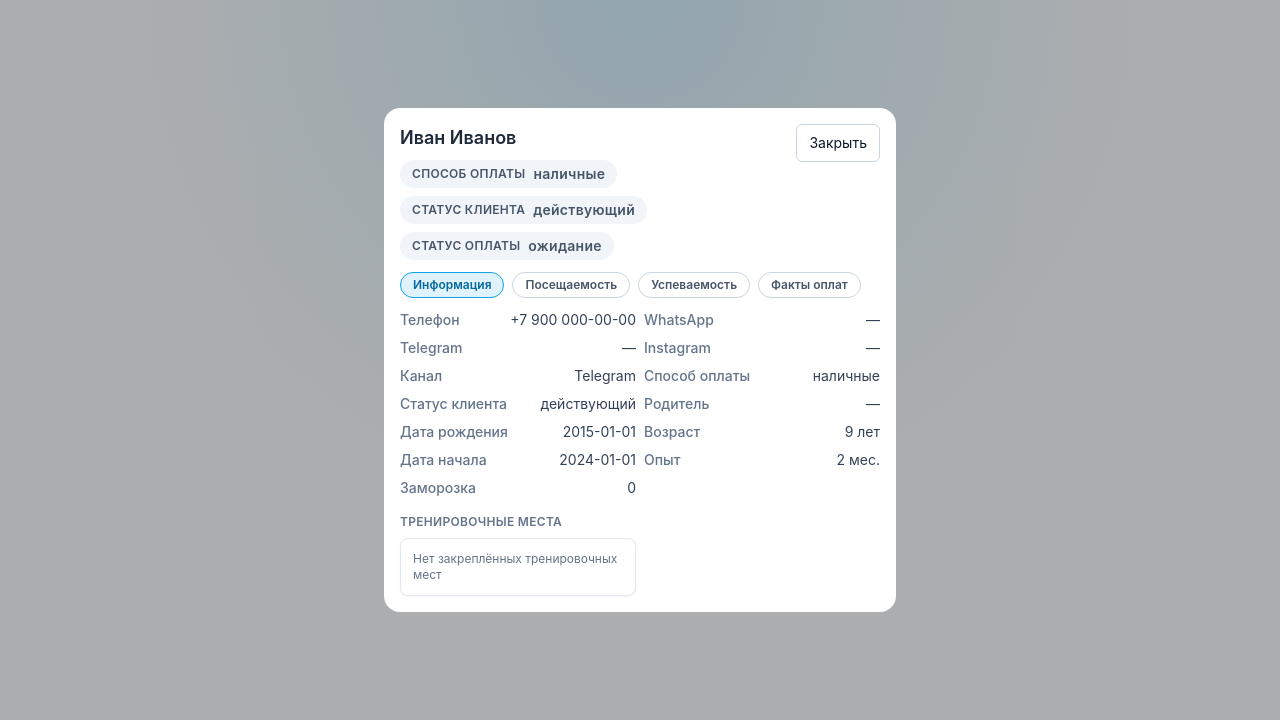
Test: ClientDetailsModal placements › shows fallback remaining lessons for payment facts without placements
The image size is (1280, 720).
Click the button "Факты оплат" at (809, 285), box [758,272,861,298]
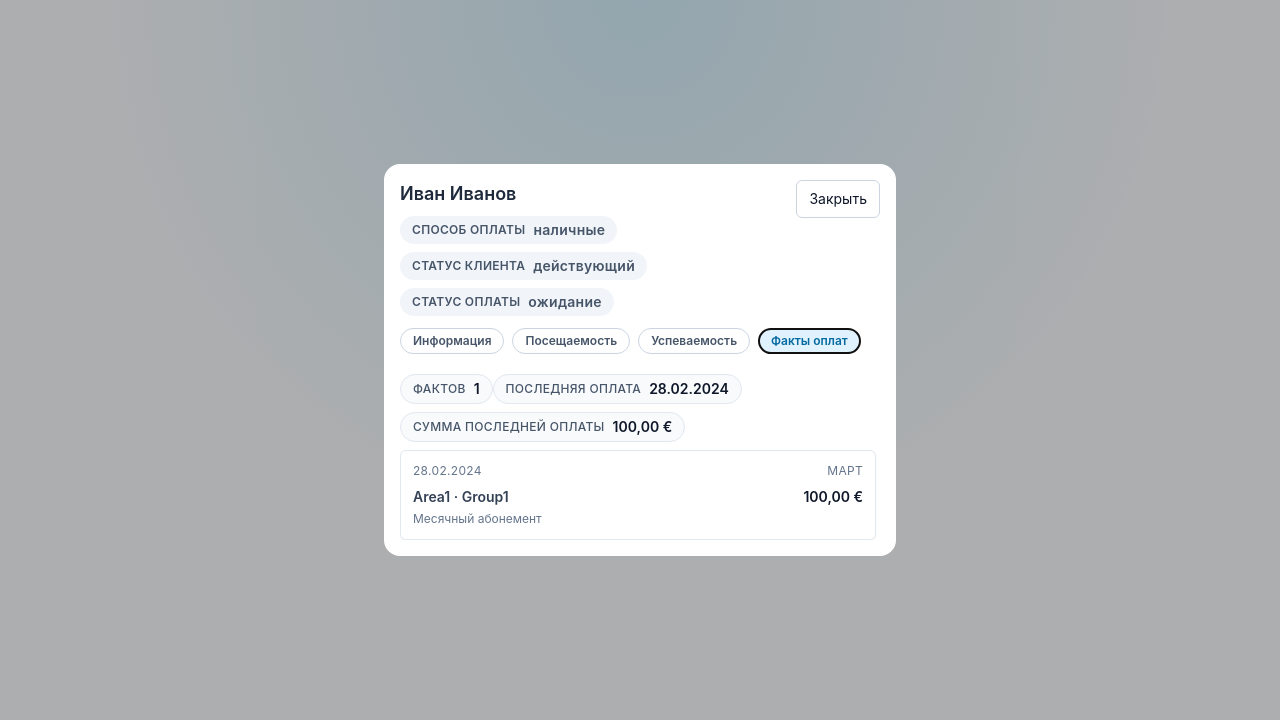
Click the text "Area1 · Group1" at (461, 497), box [413,487,509,507]
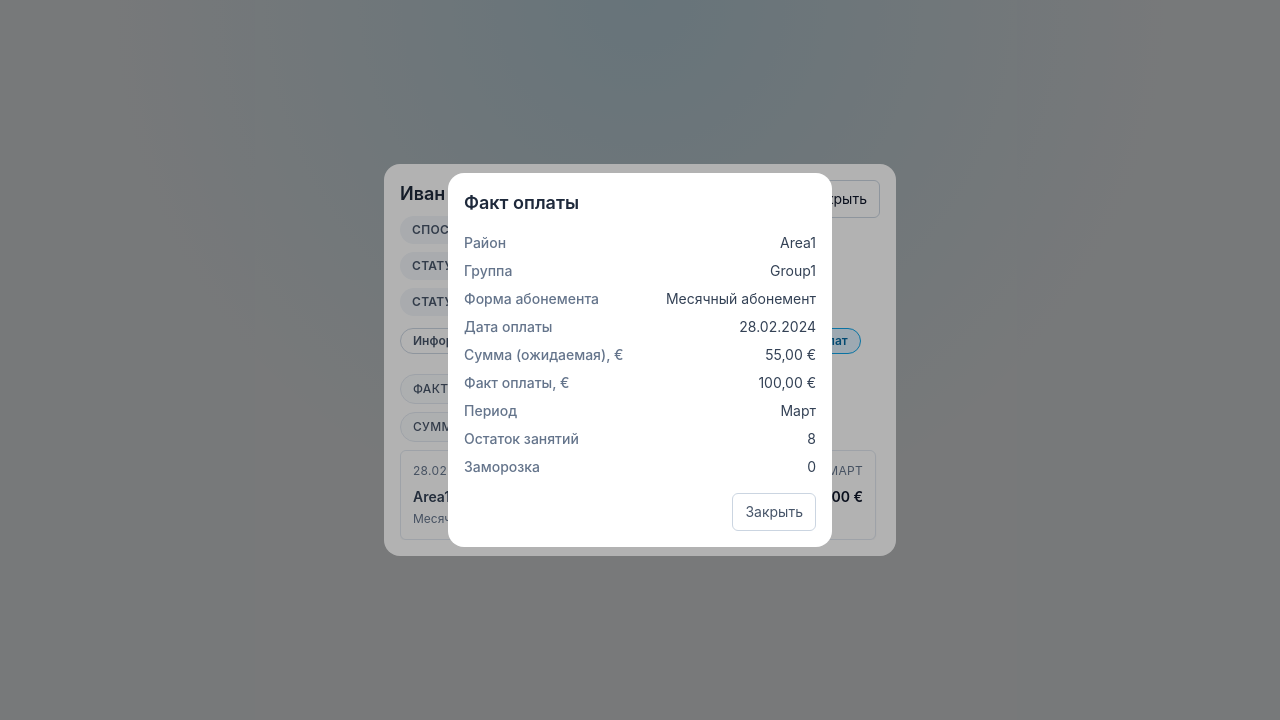
Expected: the text "Факт оплаты" is shown, [464,192,579,213]
Expected: the text "8" is shown, [807,429,816,449]
